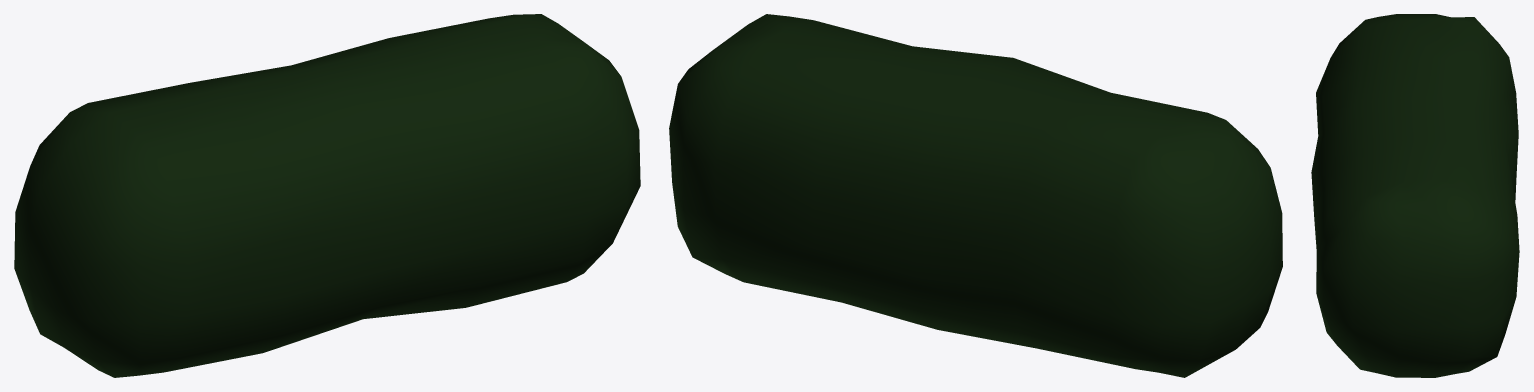
The model's file is Seto1.FBX.
3 views of the same model, side by side, from view 1: azimuth 30°, elevation 25°; view 2: azimuth 150°, elevation 25°; view 3: azimuth 270°, elevation 25° (orthographic). The views are drawn at different scales.
Visible parts, largest first — view 1: Seto1; view 2: Seto1; view 3: Seto1.
Boxes of the visible parts, x1,y1,x2,y2 form: Seto1: (14,14,640,377); Seto1: (669,14,1282,377); Seto1: (1311,14,1519,377).
Size of the model in its own units: 583 by 236 by 226.
